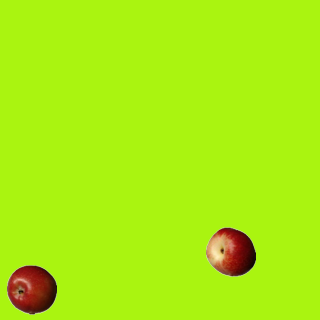Apple Braeburn: (6, 264, 56, 314)
Nectarine: (205, 226, 255, 276)
